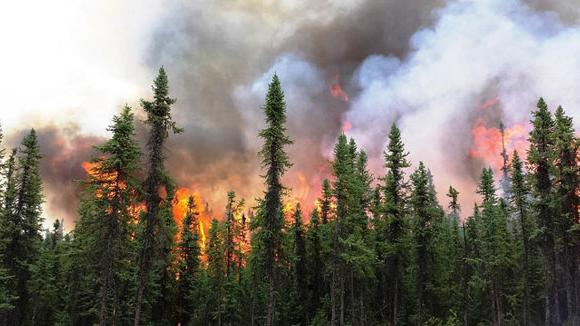fire: (283, 118, 349, 223), (173, 179, 226, 264), (480, 112, 534, 172), (82, 154, 122, 202)
